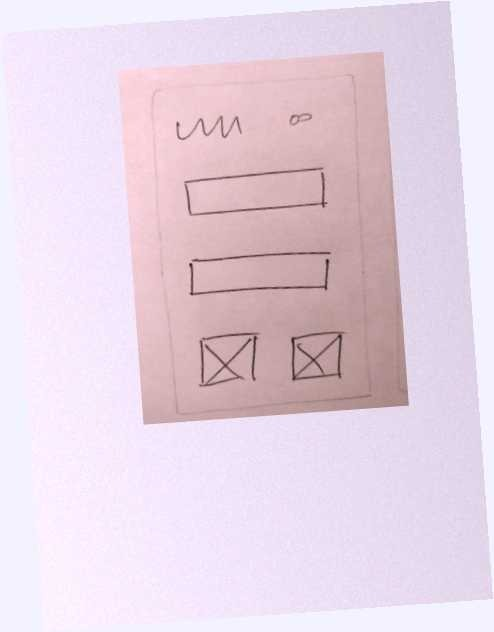image: (194, 326, 266, 394), (282, 327, 353, 388)
switch: (280, 104, 320, 134)
text: (169, 108, 247, 147)
text_input: (173, 162, 335, 227), (180, 245, 337, 305)
